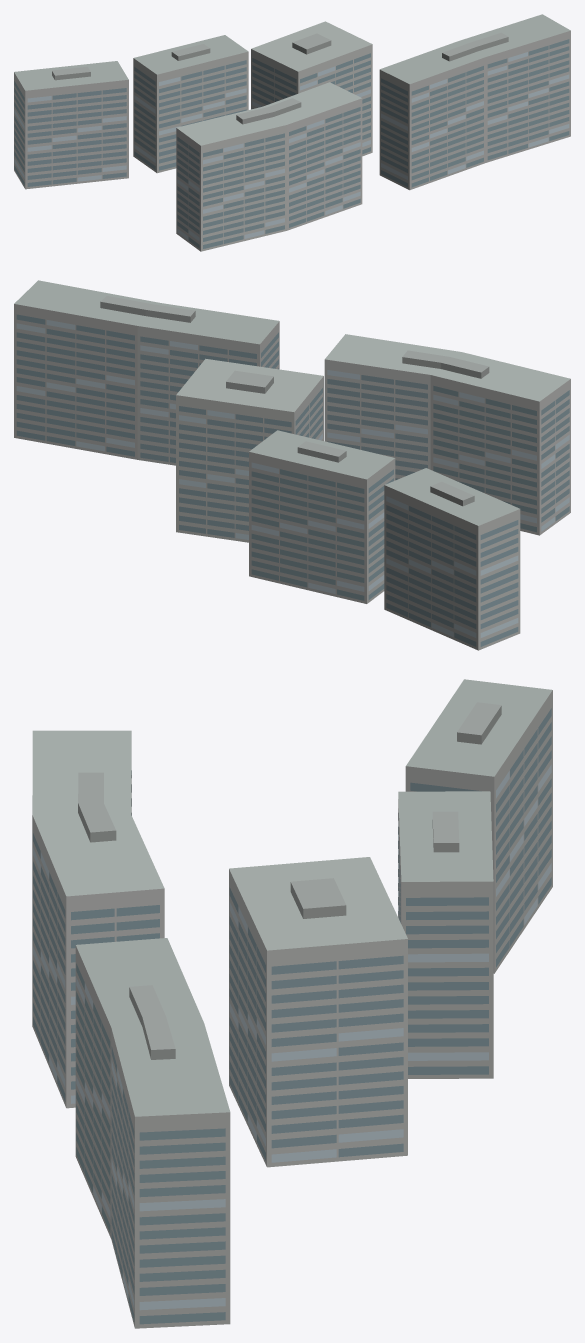
The model's file is apt-a13783001.glb.
The picture shows the model from 3 angles, top to bottom: view 1: azimuth 30°, elevation 25°; view 2: azimuth 150°, elevation 25°; view 3: azimuth 270°, elevation 25°; orthographic projection. The views are drawn at different scales.
Visible parts, largest first — view 1: apt-a13783001; view 2: apt-a13783001; view 3: apt-a13783001.
Part boxes in pixels (box(x1,y1,x2,y2)): apt-a13783001: box(14, 14, 570, 251); apt-a13783001: box(14, 280, 570, 650); apt-a13783001: box(32, 679, 552, 1328).
Bounding box in the file's own units: 188 × 44 × 91.45.
